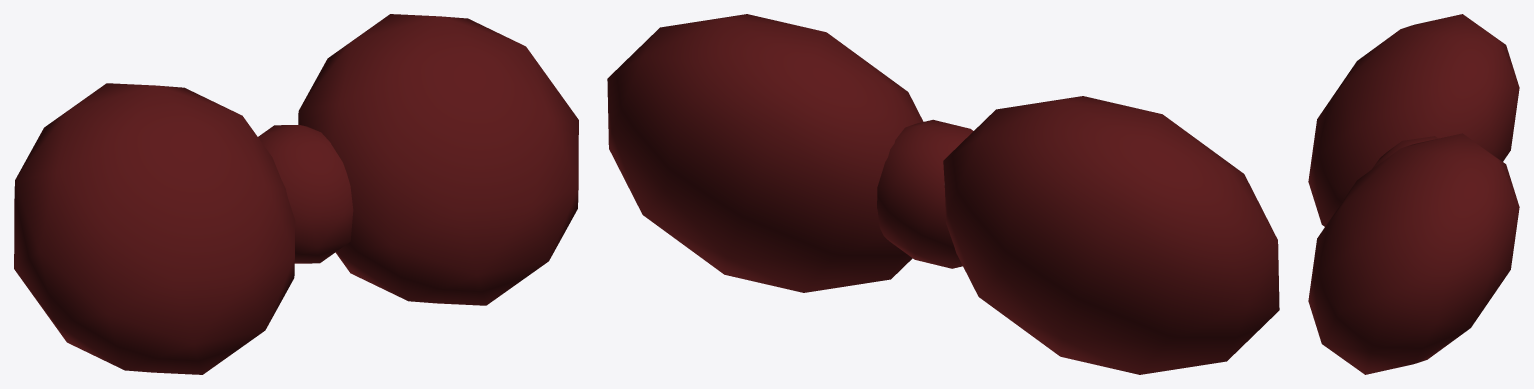
File: bowtie.fbx
3 views of the same model, side by side, from view 1: azimuth 30°, elevation 25°; view 2: azimuth 150°, elevation 25°; view 3: azimuth 270°, elevation 25° (orthographic). The views are drawn at different scales.
Parts seen in each view (by area): view 1: Demo Bowtie; view 2: Demo Bowtie; view 3: Demo Bowtie.
Part boxes in pixels (left/top/right/bottom): Demo Bowtie: left=14, top=14, right=578, bottom=374; Demo Bowtie: left=607, top=14, right=1279, bottom=374; Demo Bowtie: left=1308, top=14, right=1519, bottom=374.
Bounding box in the file's own units: 77.49 × 33.84 × 30.47.
